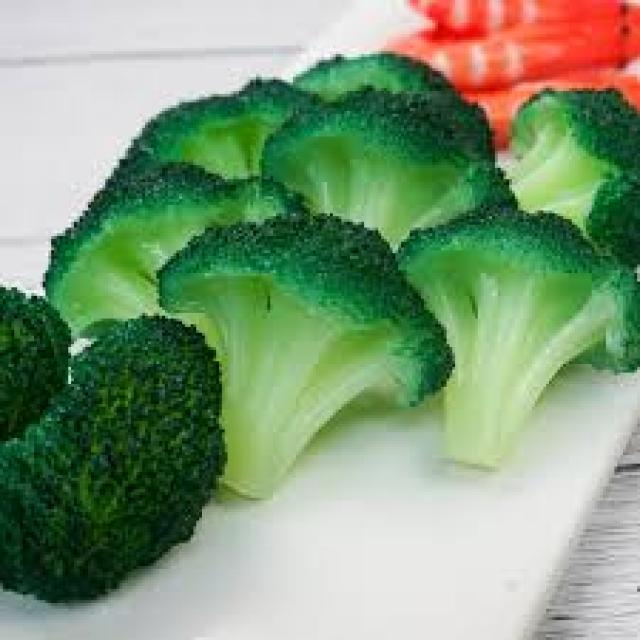broccoli: (159, 194, 487, 506), (70, 56, 637, 236), (394, 210, 640, 522), (0, 266, 205, 607)
